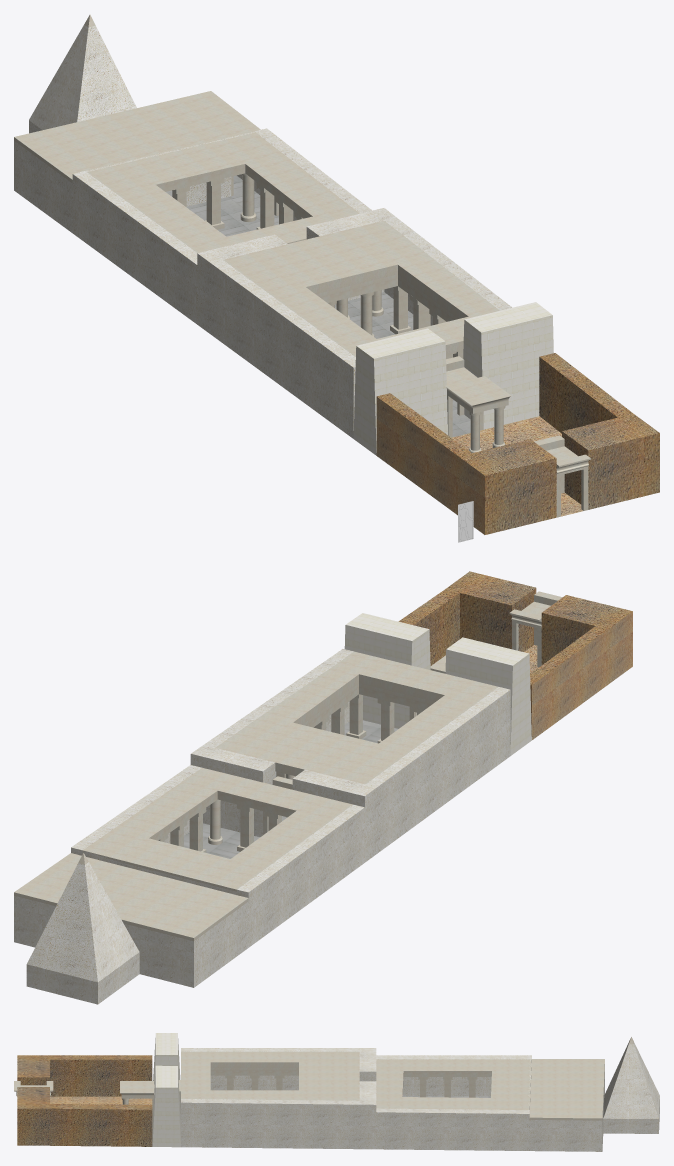
File: Nebnefer_Mahu_ST218.glb
3 renders of one model, top to bottom at view 1: azimuth 30°, elevation 25°; view 2: azimuth 150°, elevation 25°; view 3: azimuth 270°, elevation 25°, orthographic. The views are drawn at different scales.
Parts seen in each view (by area): view 1: Mesh49 Model, Mesh45 G_2nd_Court_Roof1 Model, Mesh46 G_3rd_roof1 Model, Mesh44 West_Roof1 Model, Mesh41 Pylon1 Model, Mesh40 Pylon1 Model, Mesh31 Doorway1 Model, Mesh48 ROOFlittle1 Model, Mesh30 Doorway_2_1 Model; view 2: Mesh49 Model, Mesh45 G_2nd_Court_Roof1 Model, Mesh46 G_3rd_roof1 Model, Mesh44 West_Roof1 Model, Mesh41 Pylon1 Model, Mesh40 Pylon1 Model, Mesh31 Doorway1 Model; view 3: Mesh49 Model, Mesh45 G_2nd_Court_Roof1 Model, Mesh46 G_3rd_roof1 Model, Mesh44 West_Roof1 Model, Mesh40 Pylon1 Model, Mesh41 Pylon1 Model, Mesh48 ROOFlittle1 Model, Mesh30 Doorway_2_1 Model.
Part boxes in pixels (x1,y1,x2,y2): Mesh49 Model: (14,14,659,534); Mesh45 G_2nd_Court_Roof1 Model: (223,220,499,356); Mesh46 G_3rd_roof1 Model: (85,131,359,252); Mesh44 West_Roof1 Model: (14,91,260,182); Mesh41 Pylon1 Model: (353,328,447,455); Mesh40 Pylon1 Model: (463,302,553,429); Mesh31 Doorway1 Model: (534,435,590,517); Mesh48 ROOFlittle1 Model: (445,376,511,408); Mesh30 Doorway_2_1 Model: (446,367,508,437); Mesh49 Model: (14,571,632,1004); Mesh45 G_2nd_Court_Roof1 Model: (215,651,498,784); Mesh46 G_3rd_roof1 Model: (83,768,352,891); Mesh44 West_Roof1 Model: (14,853,248,941); Mesh41 Pylon1 Model: (445,637,531,755); Mesh40 Pylon1 Model: (344,613,430,728); Mesh31 Doorway1 Model: (509,591,562,667); Mesh49 Model: (17,1037,659,1151); Mesh45 G_2nd_Court_Roof1 Model: (181,1051,359,1100); Mesh46 G_3rd_roof1 Model: (376,1059,531,1109); Mesh44 West_Roof1 Model: (529,1059,604,1120); Mesh40 Pylon1 Model: (152,1065,180,1147); Mesh41 Pylon1 Model: (153,1033,180,1084); Mesh48 ROOFlittle1 Model: (120,1081,153,1095); Mesh30 Doorway_2_1 Model: (121,1084,180,1124).
Size of the model in its own units: 9.81 by 5.76 by 39.42.
10 materials, 9 textured.
